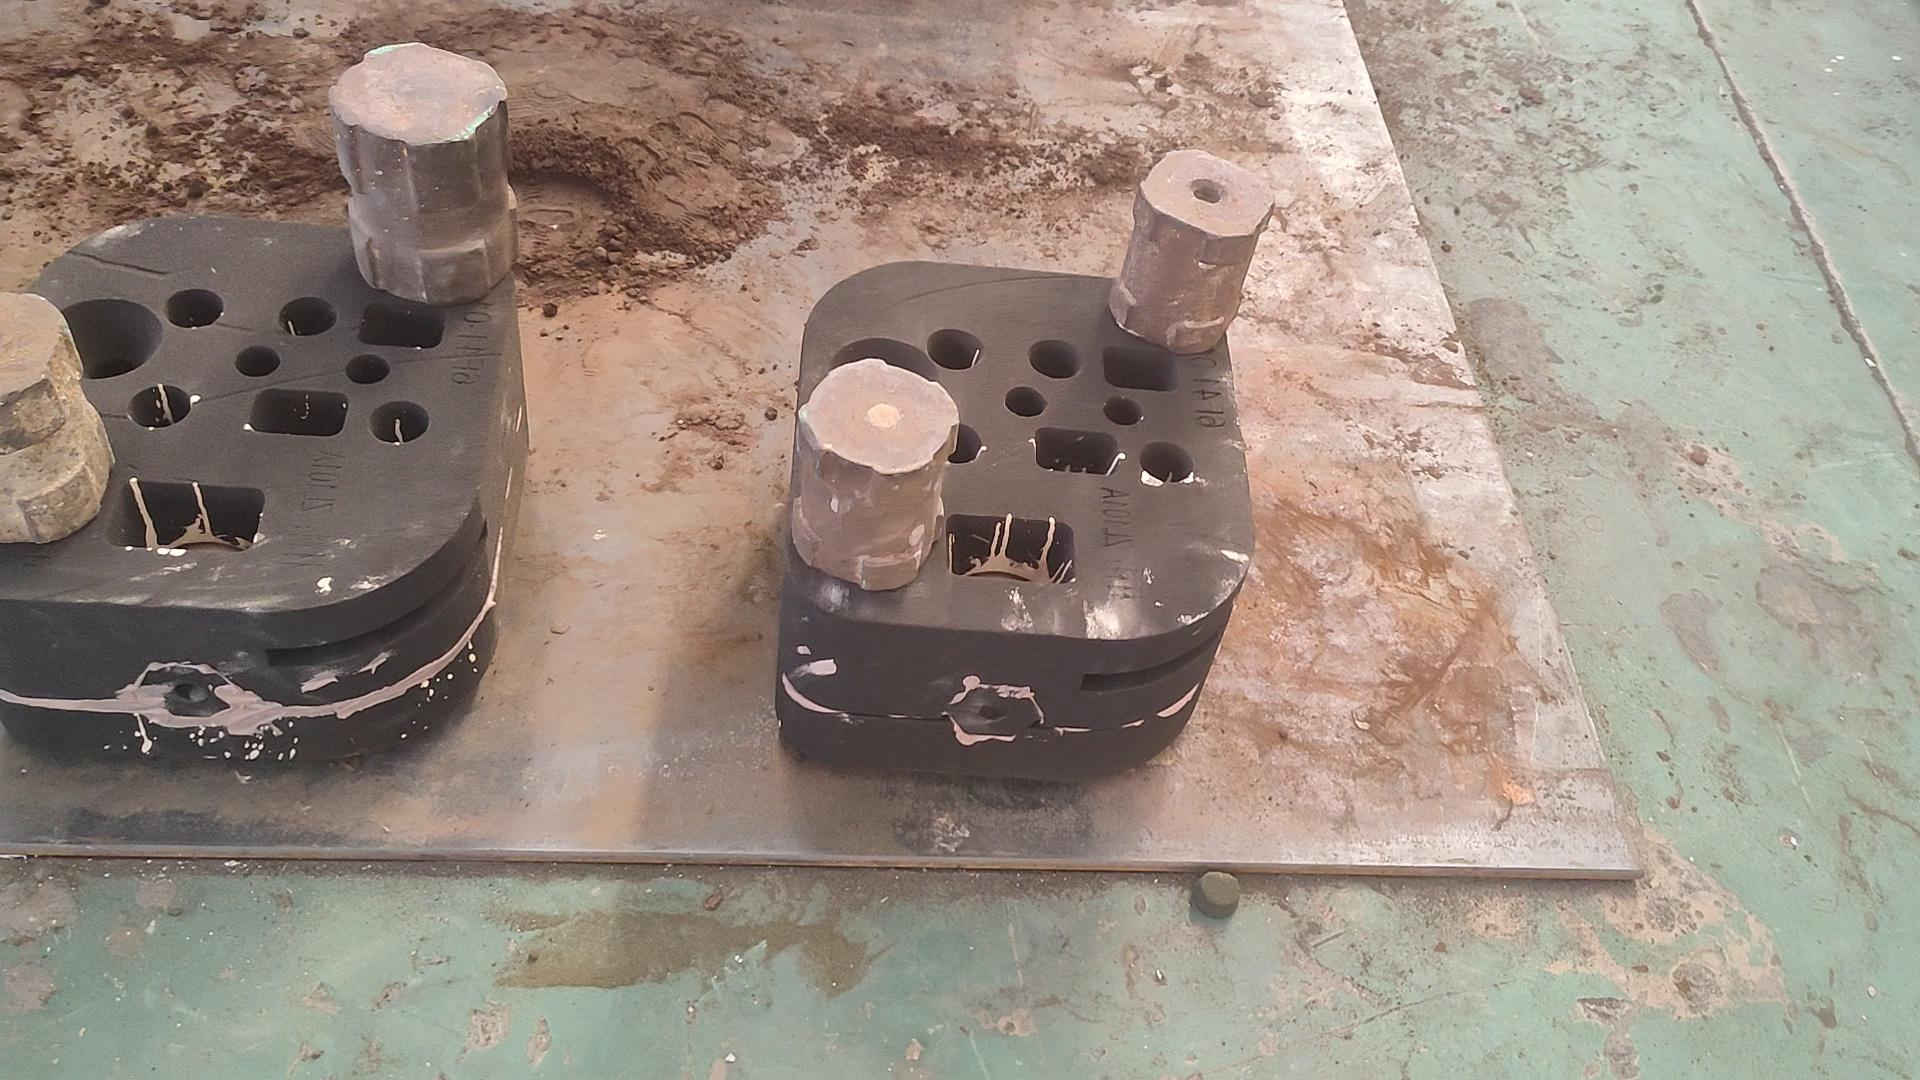pouring hole: (44, 298, 164, 380), (825, 338, 938, 415)
